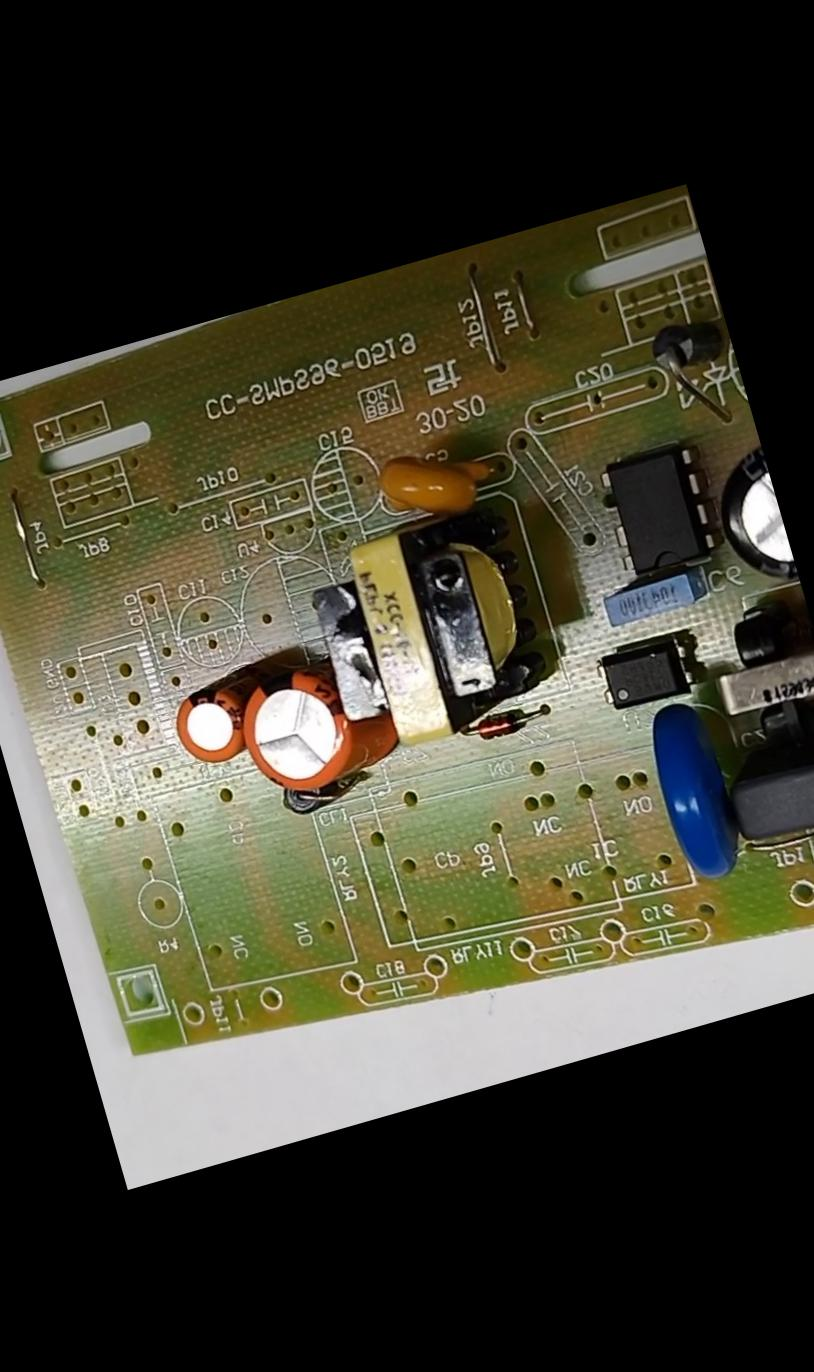Cap1: (231, 662, 364, 798)
Cap2: (170, 684, 252, 766)
Cap3: (712, 448, 797, 587)
MOSFET: (598, 440, 722, 576)
Mov: (640, 701, 740, 887)
Transformer: (300, 505, 564, 761), (702, 599, 813, 769)
